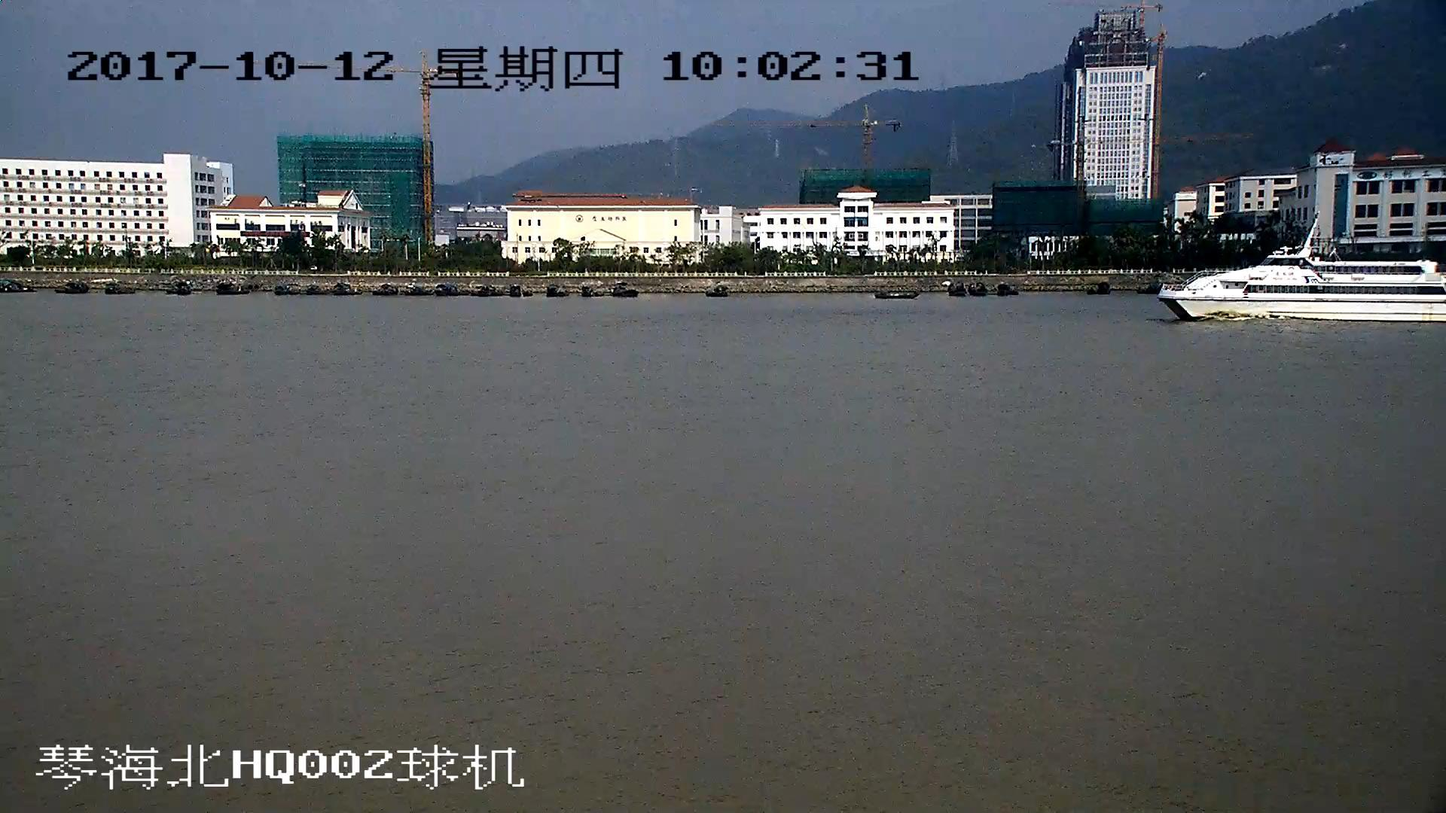passenger ship: (1164, 218, 1445, 324)
